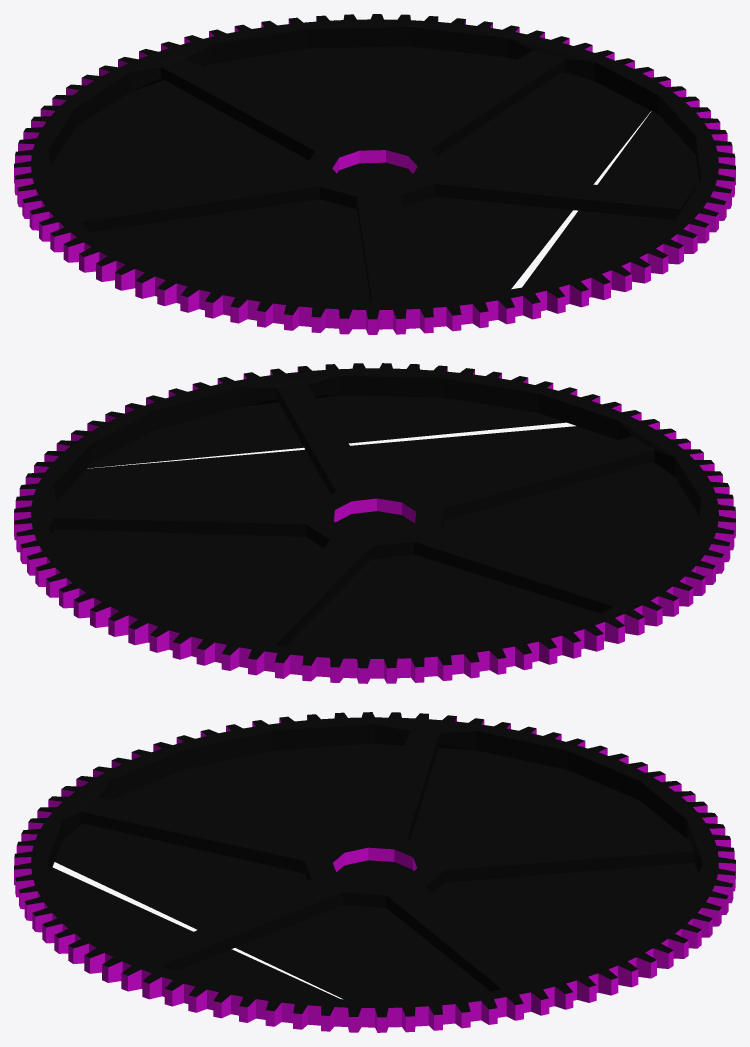
The model's file is D8GearV2.fbx.
3 renders of one model, top to bottom at view 1: azimuth 30°, elevation 25°; view 2: azimuth 150°, elevation 25°; view 3: azimuth 270°, elevation 25°, orthographic.
Parts seen in each view (by area): view 1: D8GearV2; view 2: D8GearV2; view 3: D8GearV2.
Boxes of the visible parts, x1,y1,x2,y2 form: D8GearV2: (14, 14, 735, 334); D8GearV2: (14, 363, 735, 683); D8GearV2: (14, 712, 735, 1032).
Size of the model in its own units: 16.8 by 0.5 by 16.8.
